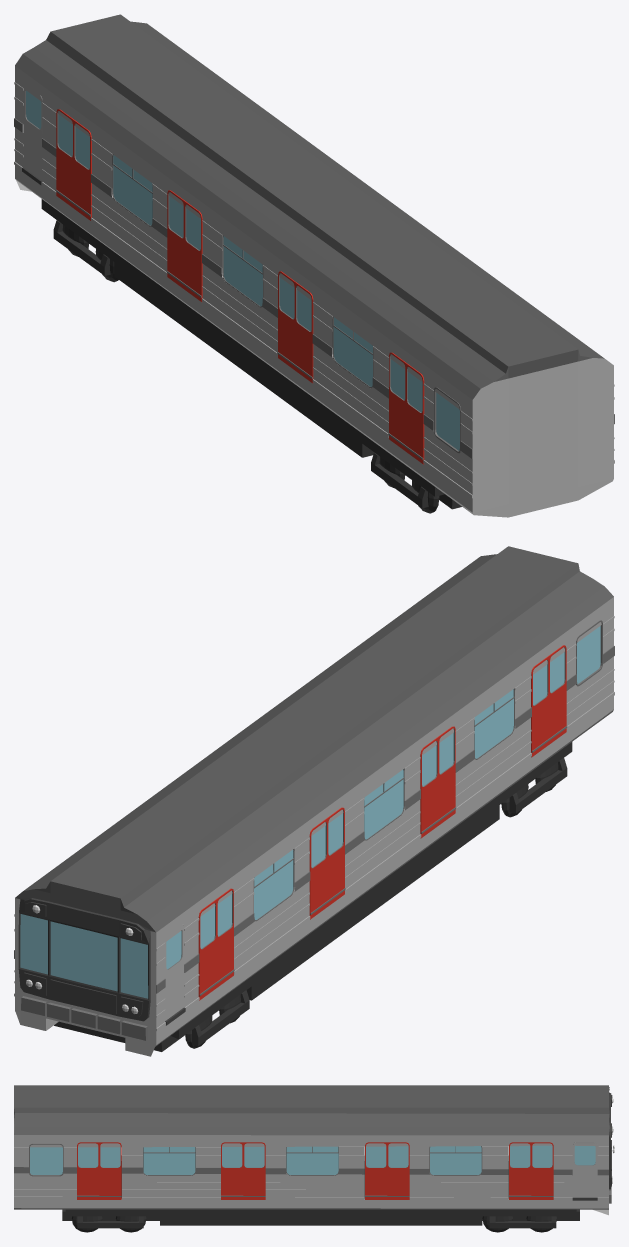
The model's file is prz_M81-71.fbx.
3 views of the same model, one above another, from view 1: azimuth 30°, elevation 25°; view 2: azimuth 150°, elevation 25°; view 3: azimuth 270°, elevation 25° (orthographic). The views are drawn at different scales.
Parts seen in each view (by area): view 1: metro_body_og, underwhatevr, doorArr.001, doorArr, windows, wheelConnector, driver_door, backWindow, wheel; view 2: metro_body_og, underwhatevr, doorArr, doorArr.001, windows, wheelConnector, driver_door, backWindow, wheel; view 3: metro_body_og, underwhatevr, doorArr, doorArr.001, windows, driver_door, wheelConnector, backWindow, wheel.
Part boxes in pixels (x1,y1,x2,y2): metro_body_og: (14, 14, 614, 517); underwhatevr: (41, 199, 461, 509); doorArr.001: (73, 120, 424, 464); doorArr: (55, 109, 406, 451); windows: (112, 154, 373, 387); wheelConnector: (53, 220, 428, 508); driver_door: (22, 89, 42, 185); backWindow: (434, 387, 460, 453); wheel: (62, 225, 439, 513); metro_body_og: (14, 546, 614, 1056); underwhatevr: (54, 742, 572, 1051); doorArr: (198, 656, 549, 1000); doorArr.001: (216, 645, 567, 987); windows: (253, 688, 514, 921); wheelConnector: (192, 758, 567, 1046); driver_door: (165, 924, 185, 1025); backWindow: (576, 620, 602, 686); wheel: (185, 762, 558, 1048); metro_body_og: (14, 1085, 612, 1215); underwhatevr: (62, 1161, 579, 1225); doorArr: (99, 1142, 553, 1199); doorArr.001: (77, 1142, 531, 1199); windows: (143, 1146, 482, 1175); driver_door: (572, 1142, 597, 1200); wheelConnector: (77, 1216, 556, 1228); backWindow: (29, 1143, 63, 1176); wheel: (71, 1216, 556, 1232).
Size of the model in its own units: 123 by 145 by 676.
